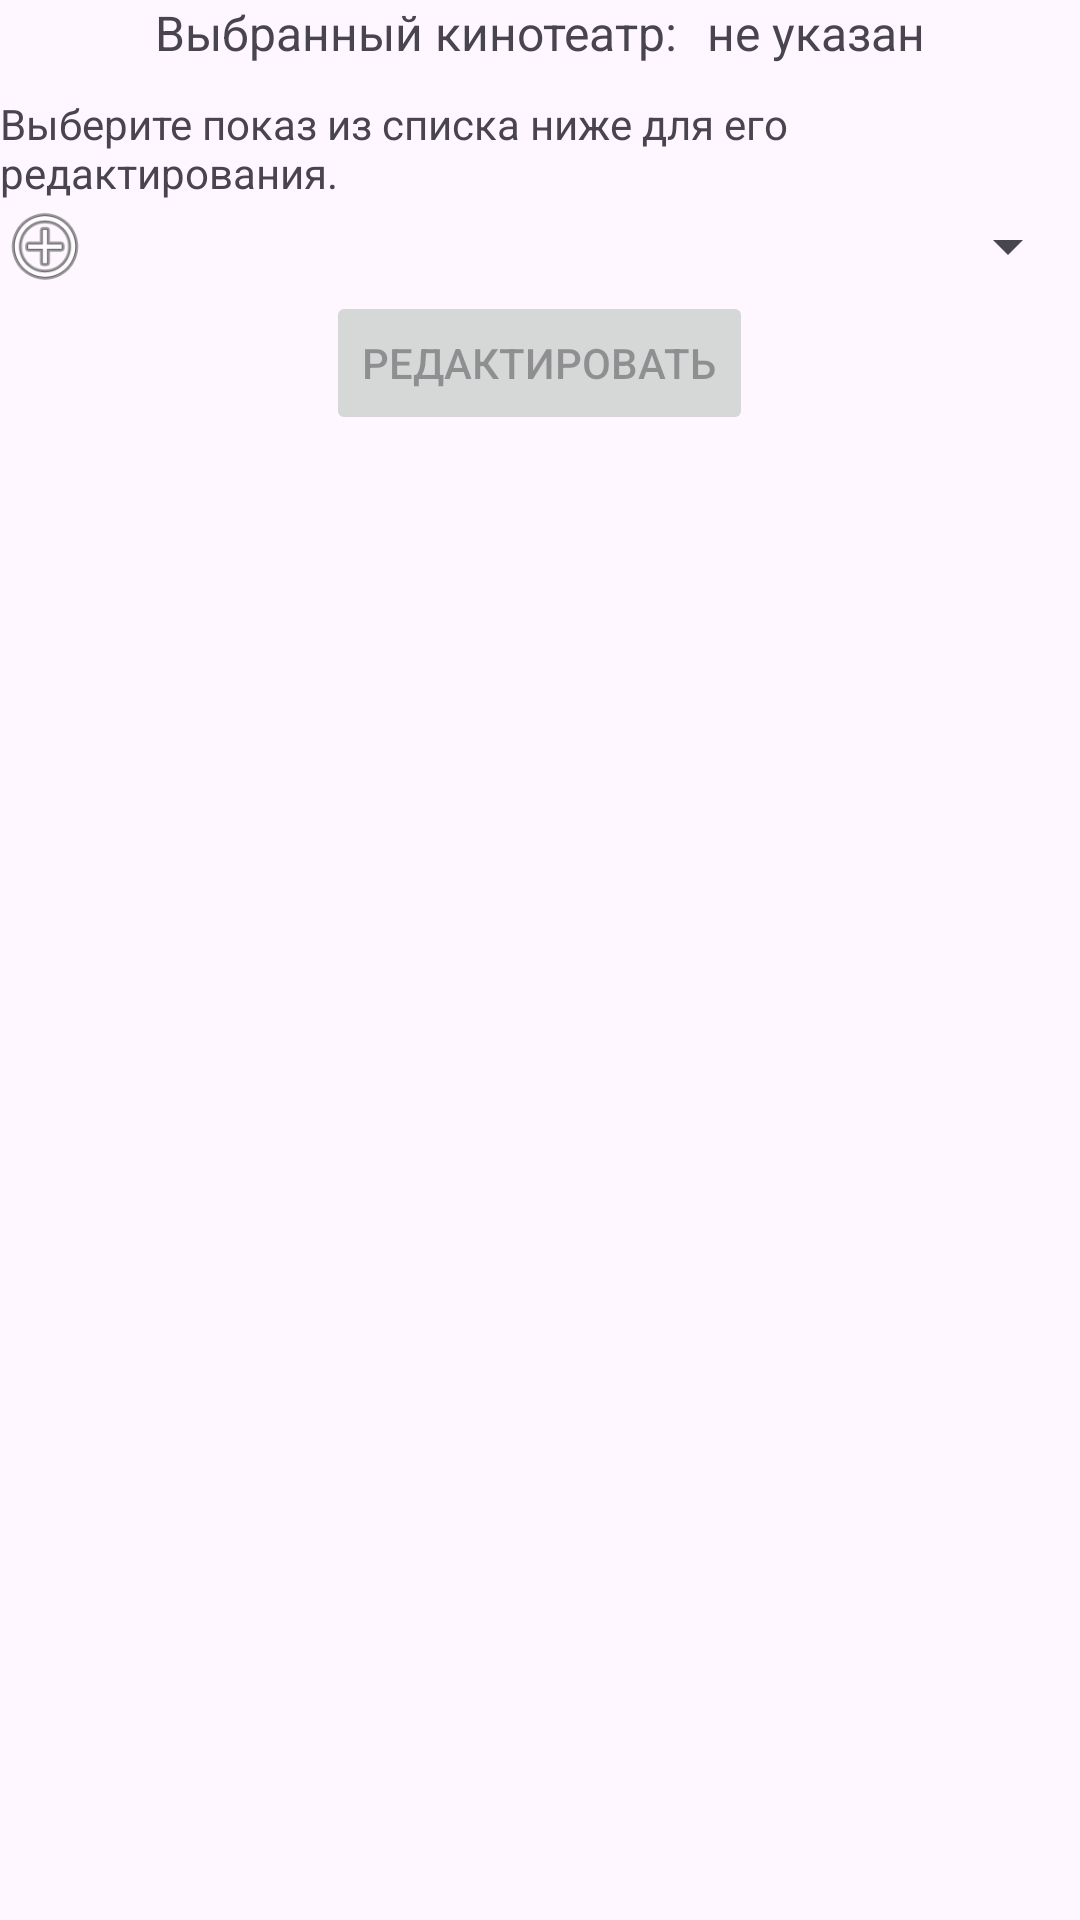

Point at icon controls on the screen. Image size 1080w x 1920h, points as (x=x, y=y).
add: (x=45, y=246)
